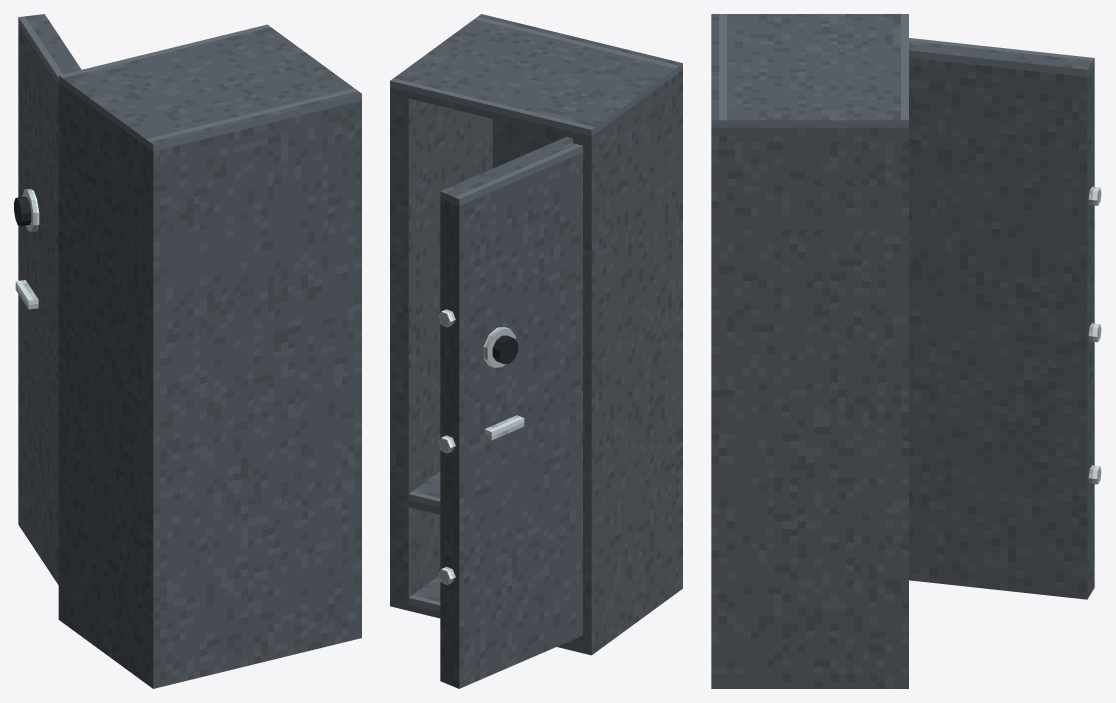
File: f_gunsafe_o.glb
3 views of the same model, side by side, from view 1: azimuth 30°, elevation 25°; view 2: azimuth 150°, elevation 25°; view 3: azimuth 270°, elevation 25° (orthographic). The views are drawn at different scales.
Visible parts, largest first — view 1: block_back, block_side--0.29500000000000004, block_armored-door, block_shelf-1, block_side-0.29500000000000004; view 2: block_armored-door, block_side--0.29500000000000004, block_side-0.29500000000000004, block_shelf-1, block_back, block_shelf-0, block_shelf-2, block_combination-dial, block_handle, block_numbered-dial-ring; view 3: block_side-0.29500000000000004, block_armored-door, block_shelf-1, block_back, block_side--0.29500000000000004.
Boxes of the visible parts, left/top/right/bottom form: block_back: left=146, top=88, right=361, bottom=688; block_side--0.29500000000000004: left=58, top=71, right=164, bottom=683; block_armored-door: left=18, top=14, right=81, bottom=584; block_shelf-1: left=78, top=29, right=334, bottom=134; block_side-0.29500000000000004: left=248, top=24, right=353, bottom=92; block_armored-door: left=440, top=137, right=582, bottom=688; block_side--0.29500000000000004: left=573, top=64, right=675, bottom=655; block_side-0.29500000000000004: left=390, top=19, right=492, bottom=610; block_shelf-1: left=408, top=24, right=656, bottom=138; block_back: left=474, top=14, right=682, bottom=593; block_shelf-0: left=408, top=576, right=572, bottom=650; block_shelf-2: left=408, top=471, right=440, bottom=514; block_combination-dial: left=492, top=335, right=518, bottom=363; block_handle: left=484, top=415, right=524, bottom=440; block_numbered-dial-ring: left=483, top=327, right=515, bottom=367; block_side-0.29500000000000004: left=727, top=110, right=908, bottom=688; block_armored-door: left=909, top=38, right=1094, bottom=599; block_shelf-1: left=727, top=23, right=908, bottom=110; block_back: left=711, top=14, right=726, bottom=688; block_side--0.29500000000000004: left=727, top=14, right=908, bottom=23.
Bounding box in the file's own units: 0.65 × 1.62 × 1.01.
Materials: 1 (1 with a texture image).
